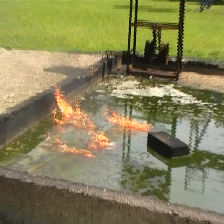fire_h: (53, 84, 96, 129), (43, 131, 95, 158), (103, 103, 153, 131), (88, 129, 114, 150)
